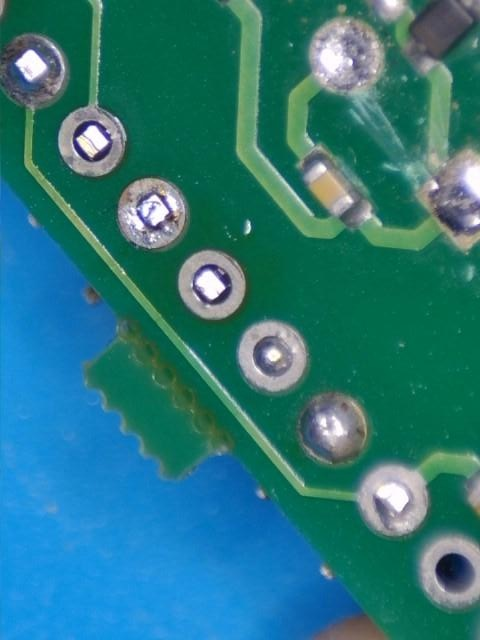pcb_defect: (360, 465, 427, 536), (238, 322, 305, 392), (118, 178, 185, 248), (299, 395, 366, 465), (315, 21, 380, 89)
